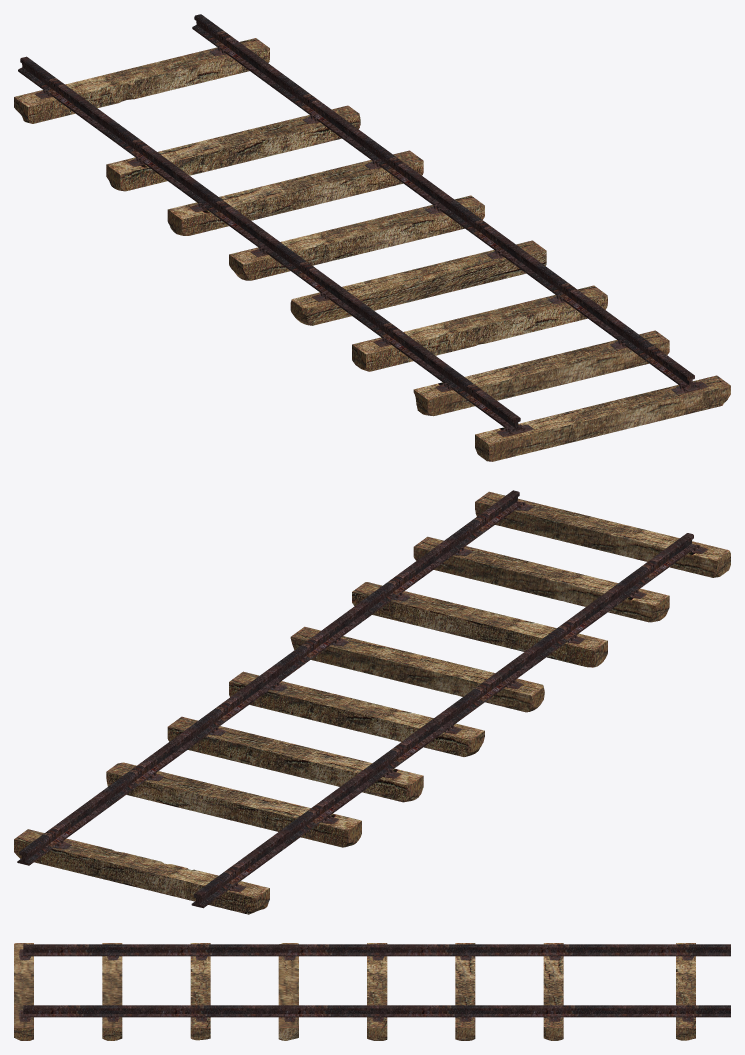
File: Relsy-1.fbx
3 views of the same model, one above another, from view 1: azimuth 30°, elevation 25°; view 2: azimuth 150°, elevation 25°; view 3: azimuth 270°, elevation 25° (orthographic). The views are drawn at different scales.
Visible parts, largest first — view 1: Cube.043_dmg; view 2: Cube.043_dmg; view 3: Cube.043_dmg.
Part boxes in pixels (x1,y1,x2,y2): Cube.043_dmg: (14,14,730,461); Cube.043_dmg: (14,490,730,914); Cube.043_dmg: (14,943,730,1040).
Bounding box in the file's own units: 140 × 17.48 × 500.
